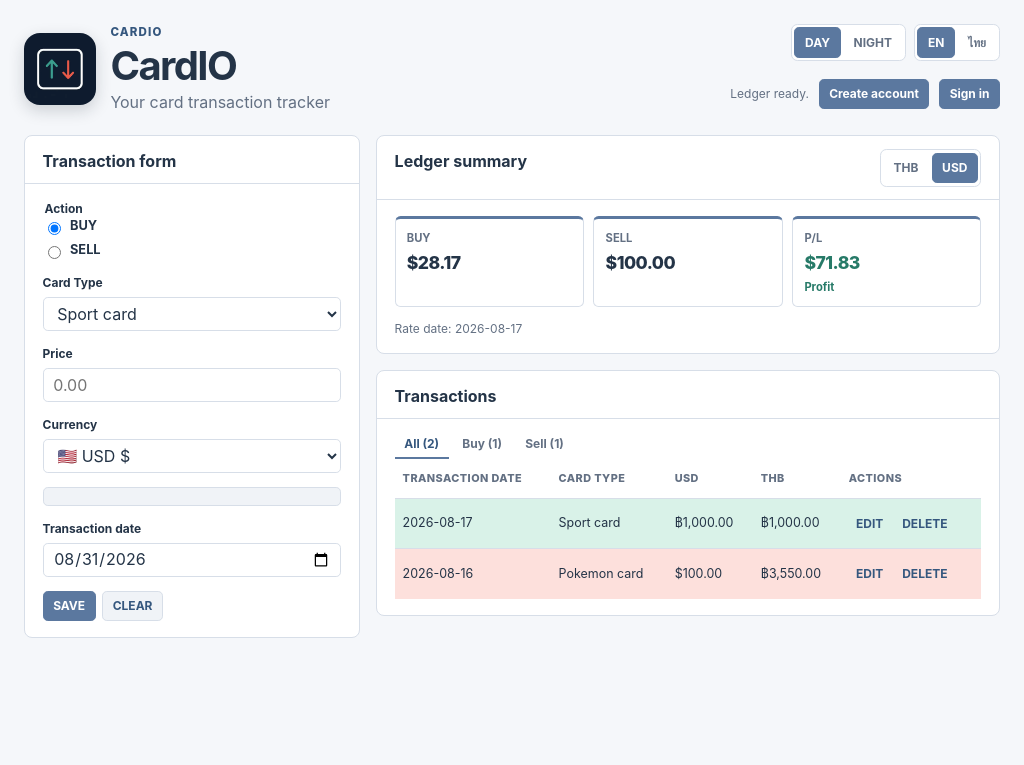
Test: App › keeps anonymous rows and controls when sign-in fails
This screenshot has width=1024, height=765.
Check: the heading "CardIO" is shown, box x1=110 y1=41 x2=236 y2=90
Click the button "Sign in": coordinates (970, 94) x1=939 y1=79 x2=1000 y2=109
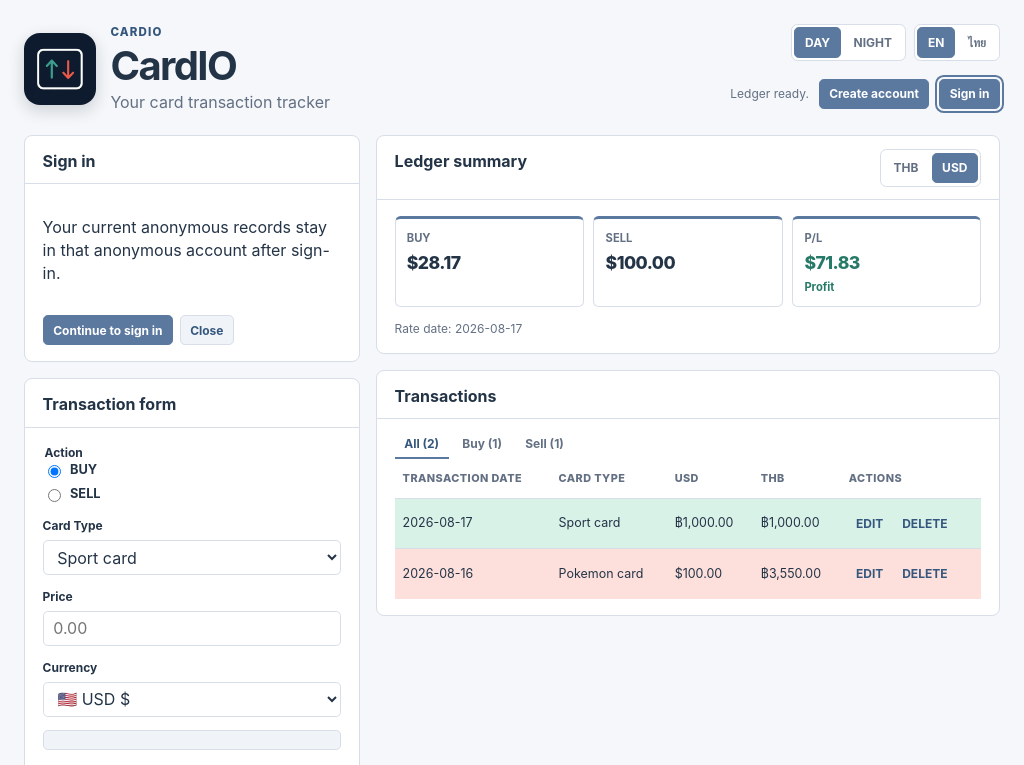
Click the button "Continue to sign in": coordinates (108, 330) x1=43 y1=315 x2=173 y2=346
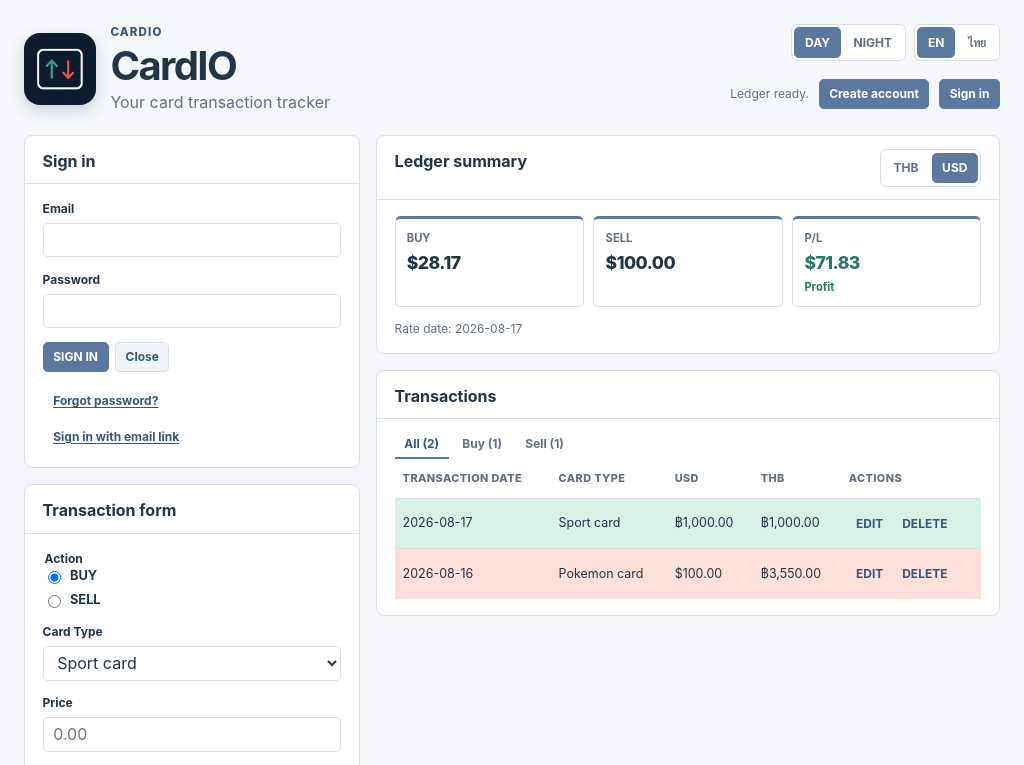
In the field labelled "Email": coordinates (192, 240) x1=43 y1=223 x2=341 y2=257, type "collector@example.com"
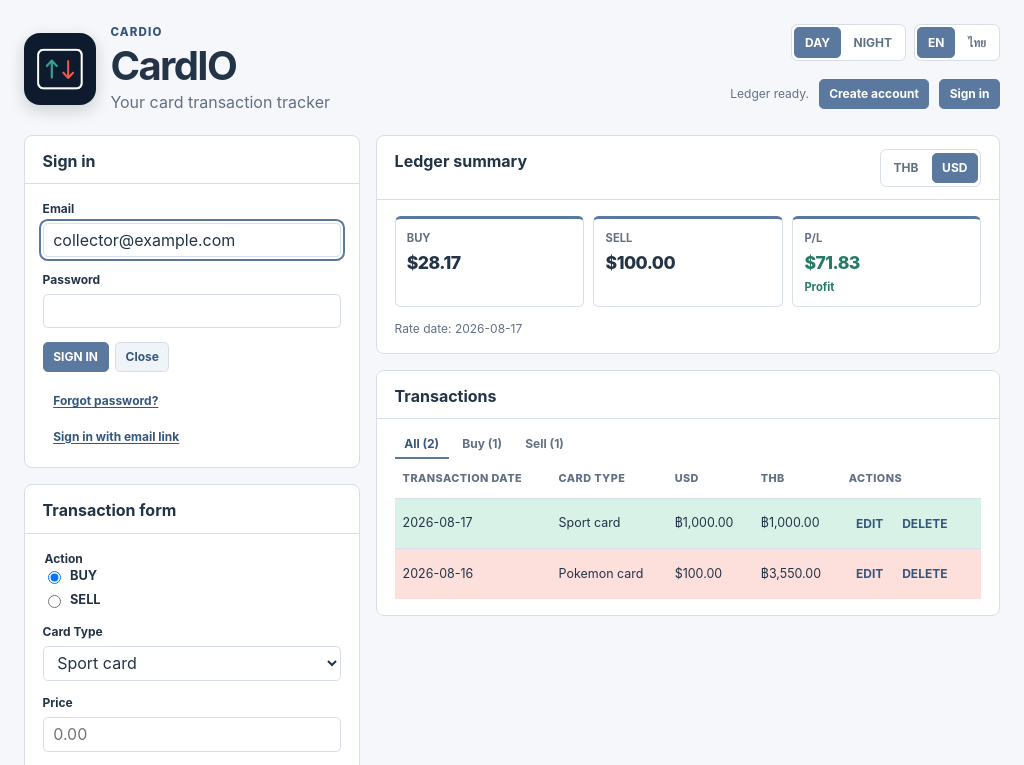
In the password field labelled "Password": coordinates (192, 311) x1=43 y1=294 x2=341 y2=328, type "wrong-password"
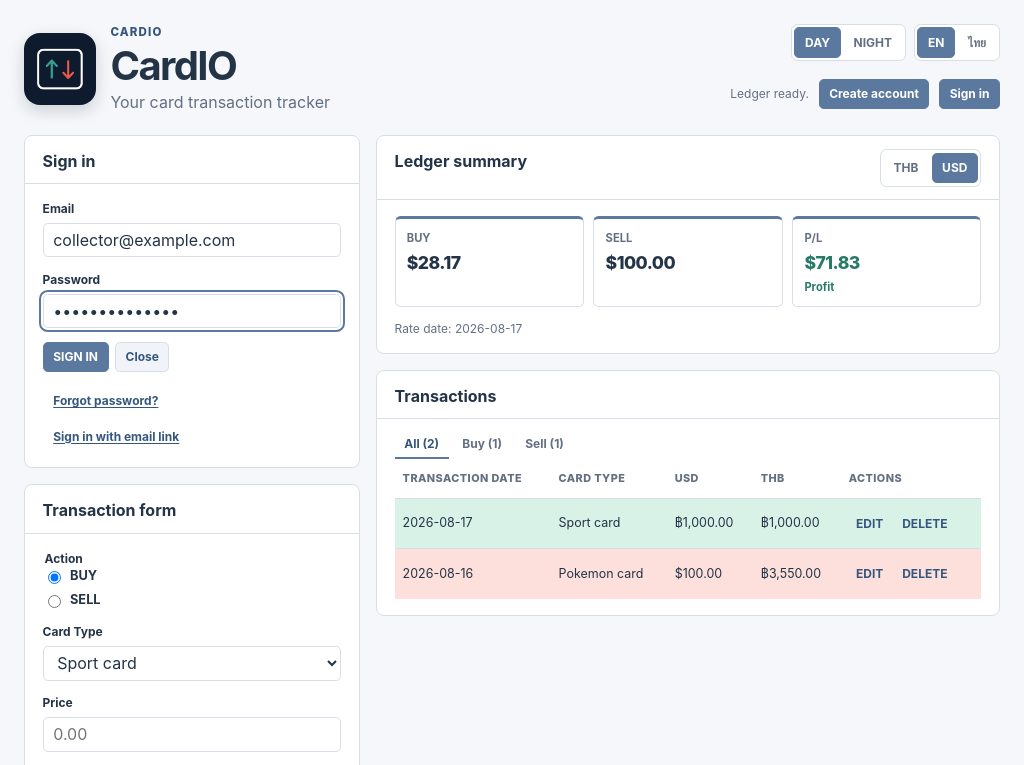
Click the button "SIGN IN": coordinates (76, 357) x1=43 y1=342 x2=108 y2=372
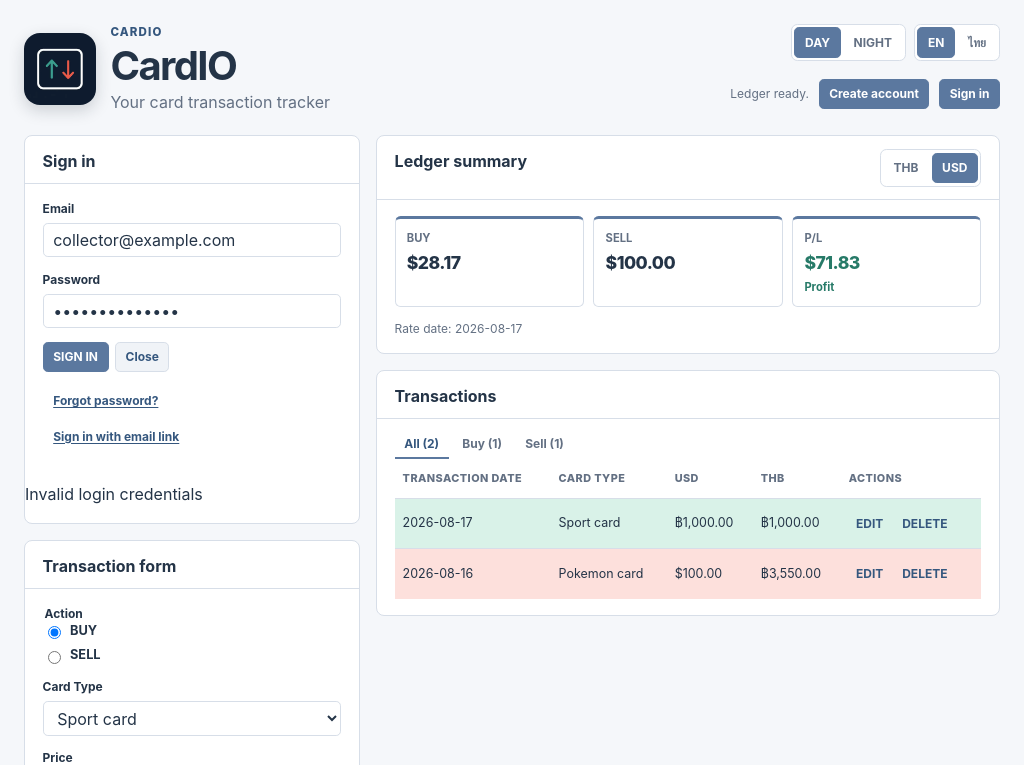
Check: the button "Create account" is shown, box x1=818 y1=79 x2=930 y2=109
Check: the message "Invalid login credentials" is shown, box x1=25 y1=484 x2=203 y2=504
